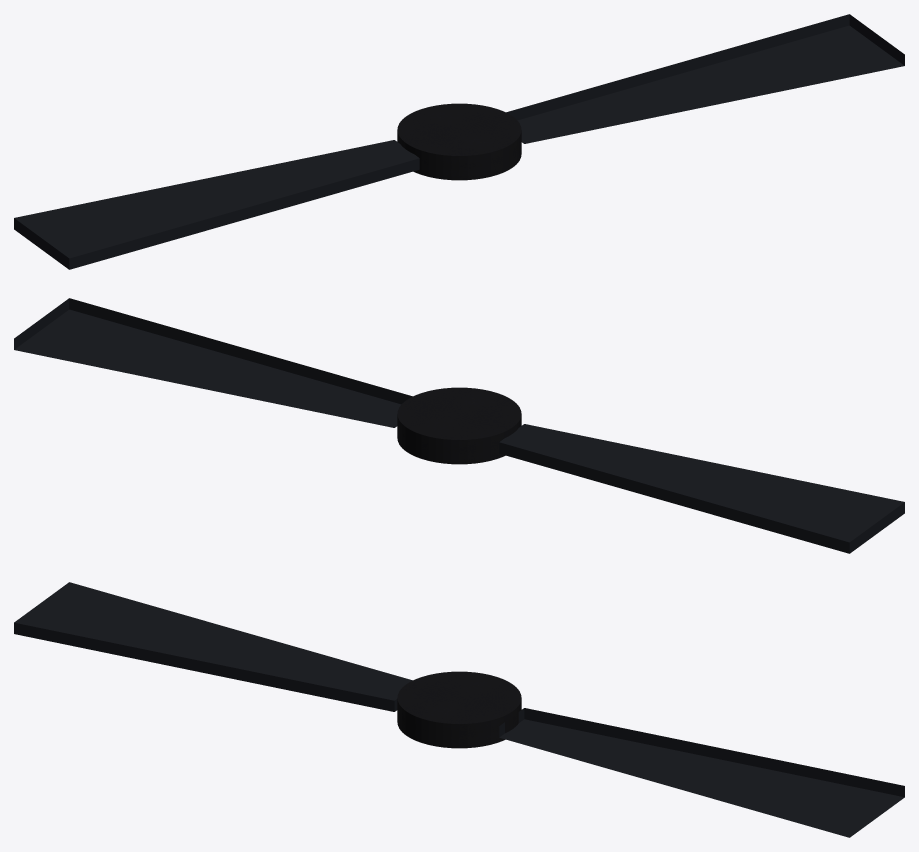
Rendered from drone_gps_prop.fbx.
The picture shows the model from 3 angles, top to bottom: view 1: azimuth 30°, elevation 25°; view 2: azimuth 150°, elevation 25°; view 3: azimuth 330°, elevation 25°; orthographic projection.
Visible parts, largest first — view 1: GpsPropeller; view 2: GpsPropeller; view 3: GpsPropeller.
Boxes of the visible parts, x1,y1,x2,y2 form: GpsPropeller: [14, 14, 904, 269]; GpsPropeller: [14, 298, 904, 553]; GpsPropeller: [14, 582, 904, 837].
Bounding box in the file's own units: 29.21 × 3.76 × 0.8128.
